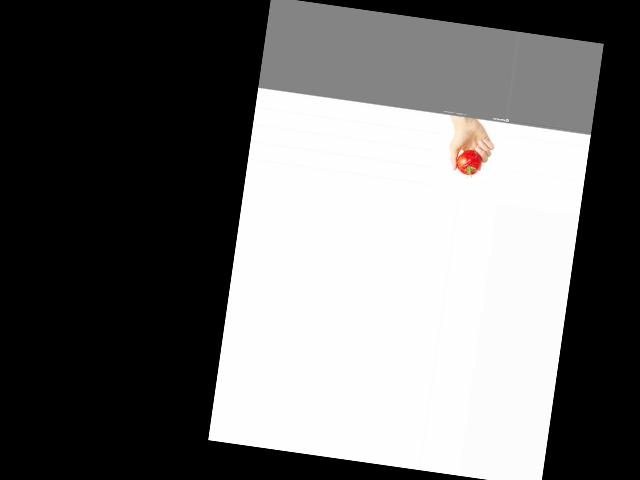tomato: (454, 148, 482, 177)
